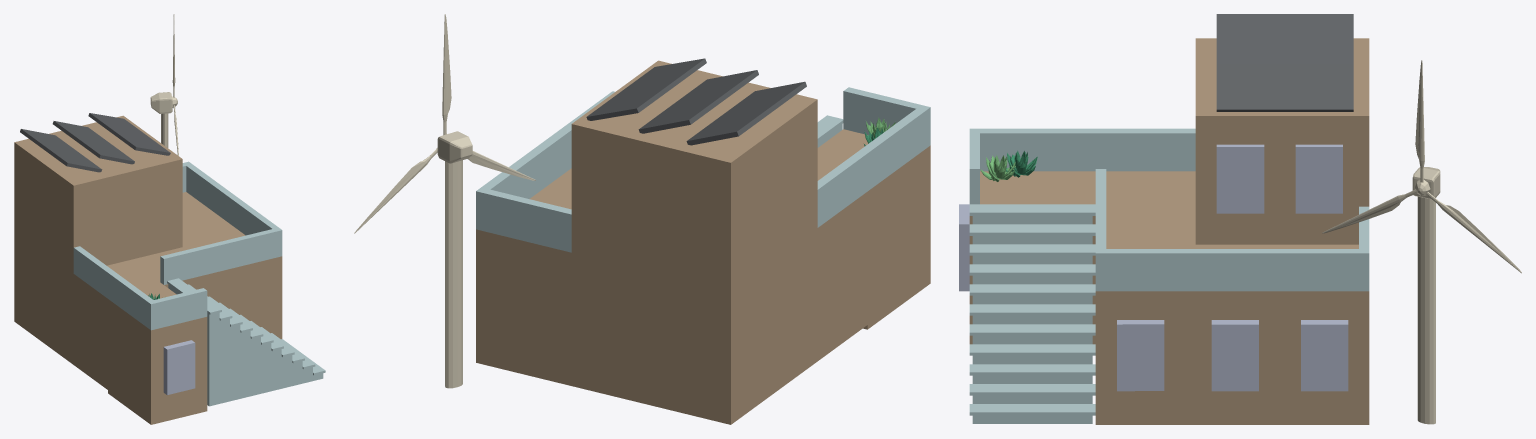
The model's file is house1.glb.
3 views of the same model, side by side, from view 1: azimuth 30°, elevation 25°; view 2: azimuth 150°, elevation 25°; view 3: azimuth 270°, elevation 25° (orthographic). The views are drawn at different scales.
Visible parts, largest first — view 1: Mesh_Mesh_head_geo.001_lambert2SG.001; view 2: Mesh_Mesh_head_geo.001_lambert2SG.001; view 3: Mesh_Mesh_head_geo.001_lambert2SG.001.
Part boxes in pixels (box(x1,y1,x2,y2)): Mesh_Mesh_head_geo.001_lambert2SG.001: box(14, 14, 325, 424); Mesh_Mesh_head_geo.001_lambert2SG.001: box(354, 14, 930, 424); Mesh_Mesh_head_geo.001_lambert2SG.001: box(959, 14, 1521, 424).
Size of the model in its own units: 0.066 by 0.078 by 0.107.
